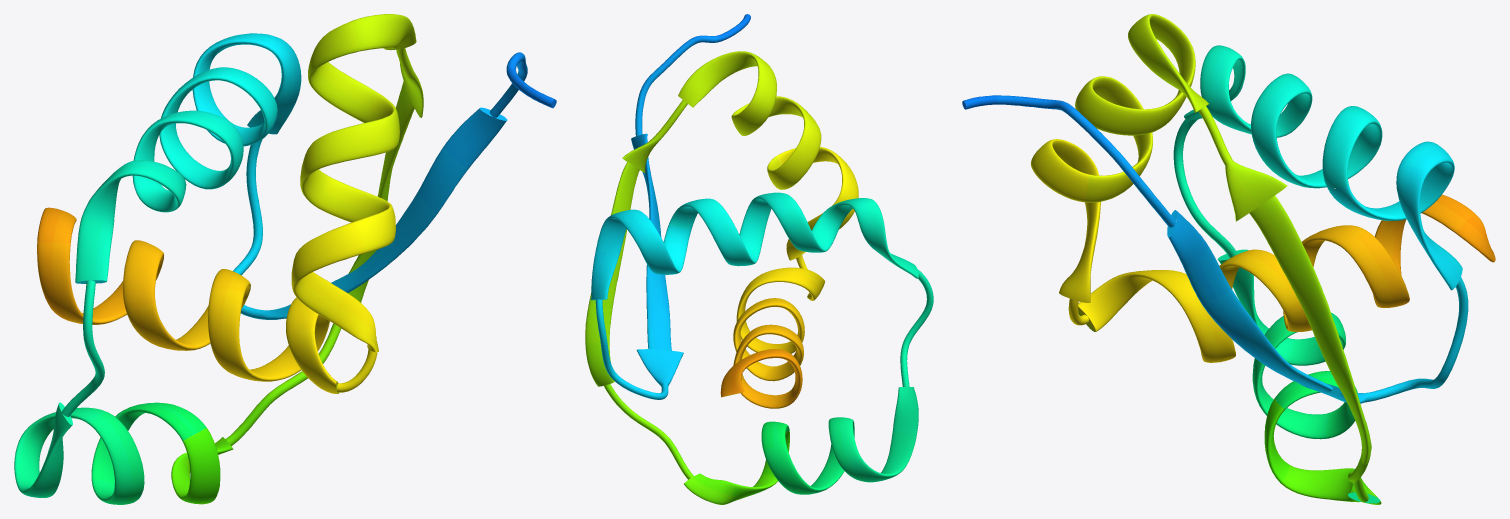
The model's file is knotD.gltf.
3 views of the same model, side by side, from view 1: azimuth 30°, elevation 25°; view 2: azimuth 150°, elevation 25°; view 3: azimuth 270°, elevation 25° (orthographic). The views are drawn at different scales.
Parts seen in each view (by area): view 1: subnode_4, subnode_1, subnode_2, subnode_0; view 2: subnode_1, subnode_2, subnode_0, subnode_4; view 3: subnode_2, subnode_4, subnode_1, subnode_0, subnode_3.
Part boxes in pixels (<box>): subnode_4: <box>37,203,395,393</box>; subnode_1: <box>14,67,277,504</box>; subnode_2: <box>171,14,423,504</box>; subnode_0: <box>192,33,554,319</box>; subnode_1: <box>669,192,933,494</box>; subnode_2: <box>585,51,821,504</box>; subnode_0: <box>591,14,750,399</box>; subnode_4: <box>720,146,858,408</box>; subnode_2: <box>1075,14,1381,504</box>; subnode_4: <box>1031,139,1495,362</box>; subnode_1: <box>1173,45,1382,439</box>; subnode_0: <box>963,95,1468,403</box>; subnode_3: <box>962,101,1379,503</box>.
Size of the model in its own units: 26.55 by 30.76 by 28.51.
